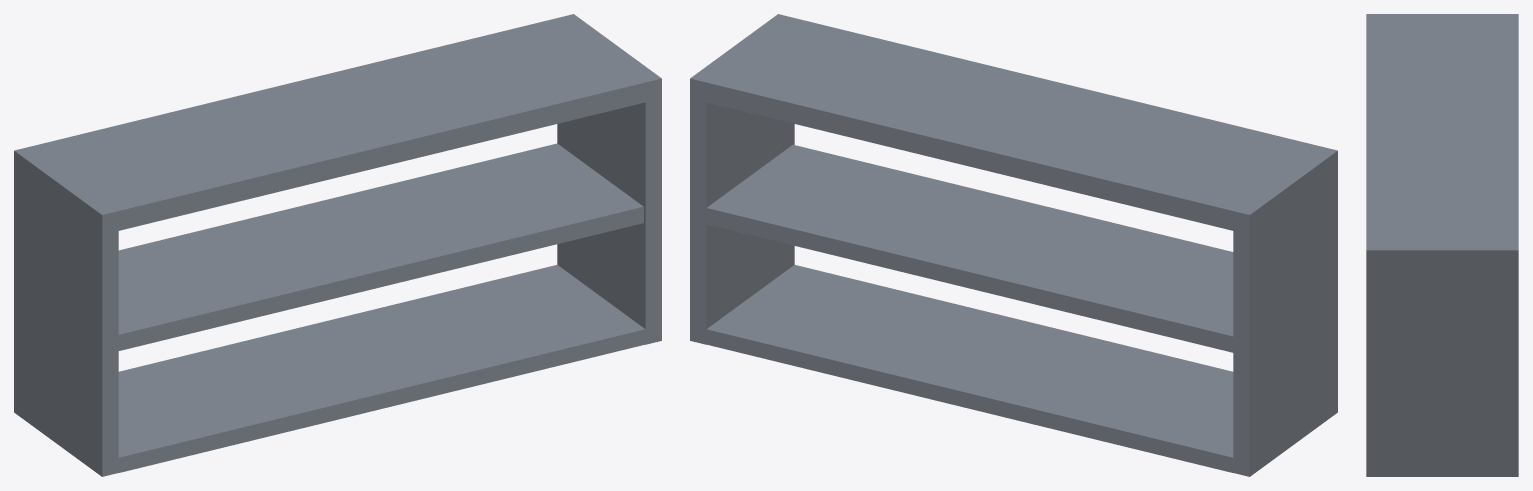
The model's file is Shelf6.glb.
The picture shows the model from 3 angles, left to right: view 1: azimuth 30°, elevation 25°; view 2: azimuth 150°, elevation 25°; view 3: azimuth 270°, elevation 25°; orthographic projection. The views are drawn at different scales.
Visible parts, largest first — view 1: SI_Prop_Shelf_09; view 2: SI_Prop_Shelf_09; view 3: SI_Prop_Shelf_09.
Part boxes in pixels (x1,y1,x2,y2): SI_Prop_Shelf_09: (14,14,661,476); SI_Prop_Shelf_09: (690,14,1337,476); SI_Prop_Shelf_09: (1366,14,1518,476).
Bounding box in the file's own units: 0.0405 × 0.0181 × 0.011.
1 material, 1 textured.
